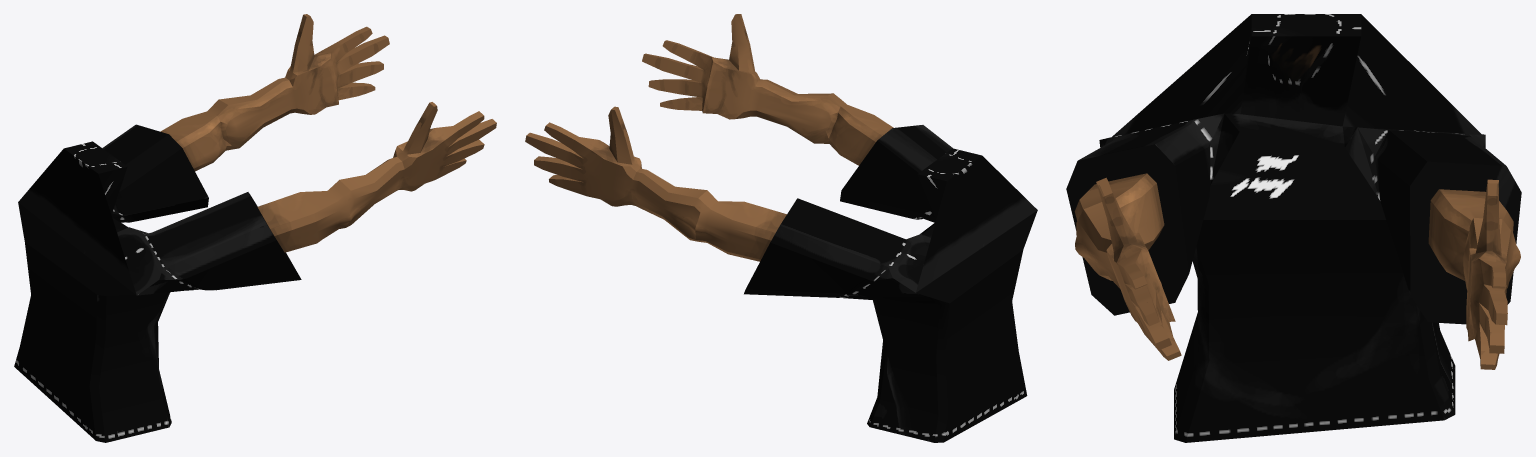
The model's file is char_fp.glb.
3 renders of one model, left to right at view 1: azimuth 30°, elevation 25°; view 2: azimuth 150°, elevation 25°; view 3: azimuth 270°, elevation 25°, orthographic. The views are drawn at different scales.
Parts seen in each view (by area): view 1: shirt; view 2: shirt; view 3: shirt.
Boxes of the visible parts, bbox=[...] form: shirt: bbox=[14, 14, 496, 442]; shirt: bbox=[525, 14, 1037, 442]; shirt: bbox=[1066, 14, 1521, 442].
Size of the model in its own units: 0.8467 by 0.5823 by 0.5395.
2 materials, 2 textured.
